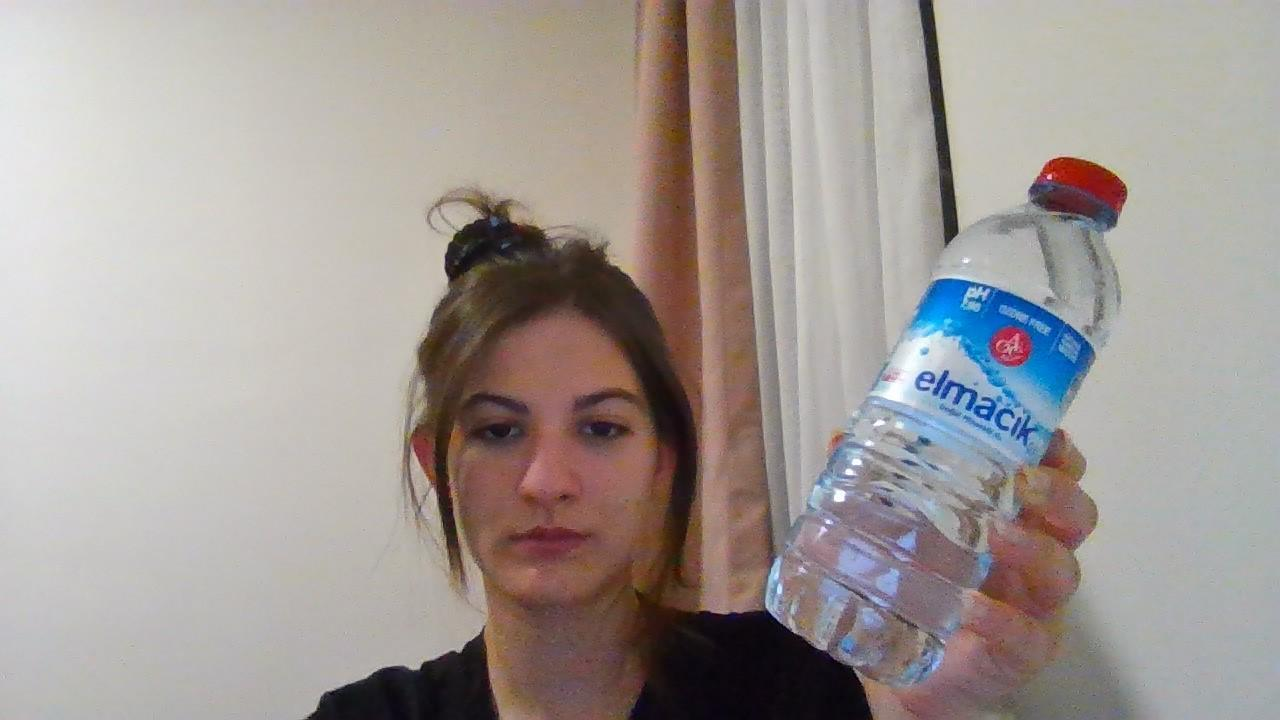bottle: (762, 155, 1126, 685)
